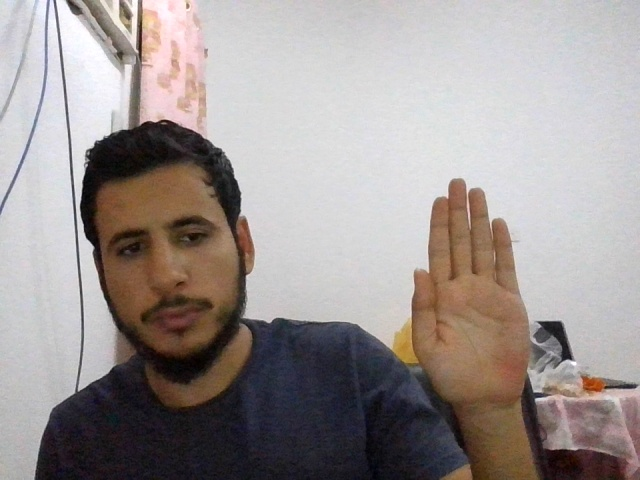Five: (411, 180, 532, 406)
